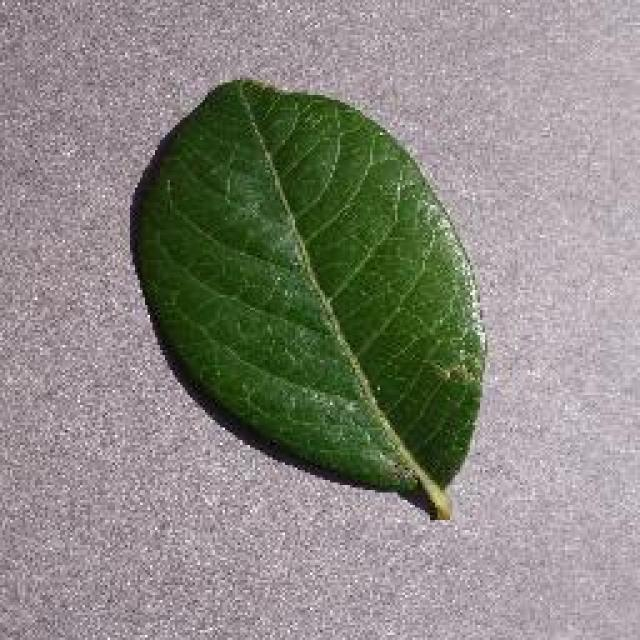Blu_healthy: (155, 129, 450, 426)
